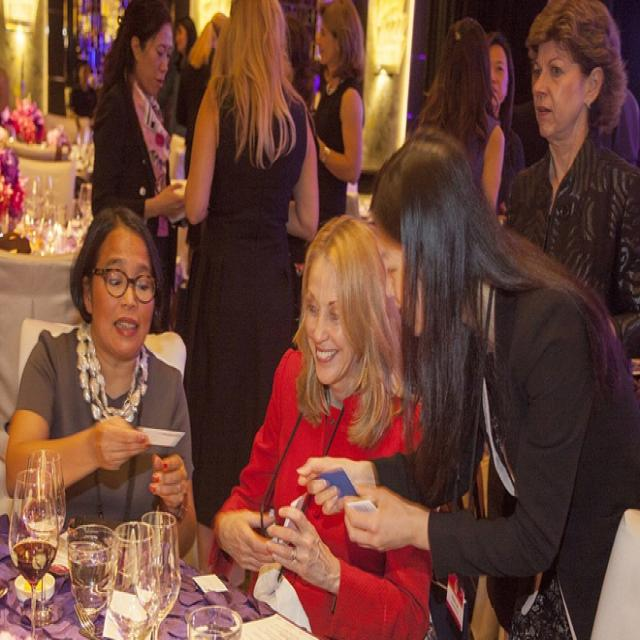body: (294, 114, 639, 638), (214, 211, 436, 640), (184, 0, 327, 537), (2, 204, 199, 562), (505, 0, 640, 385), (88, 0, 189, 336), (417, 16, 506, 211), (308, 0, 368, 233), (484, 29, 526, 218), (597, 73, 639, 166), (283, 15, 316, 96), (68, 60, 99, 119), (173, 15, 200, 58)
